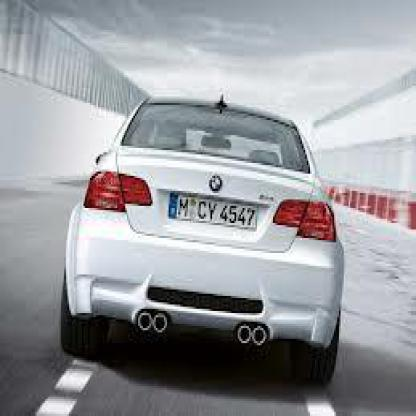Vehicle: (60, 92, 348, 382)
